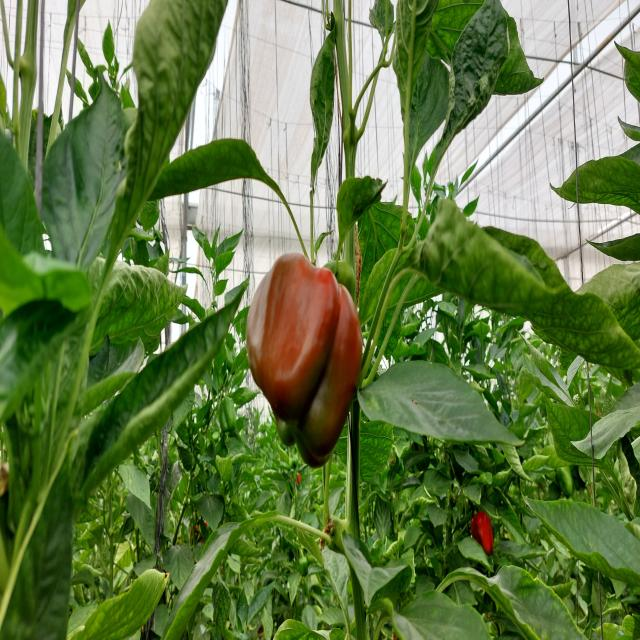BrownishRed--Can-be-Harvested: (248, 252, 360, 464)
